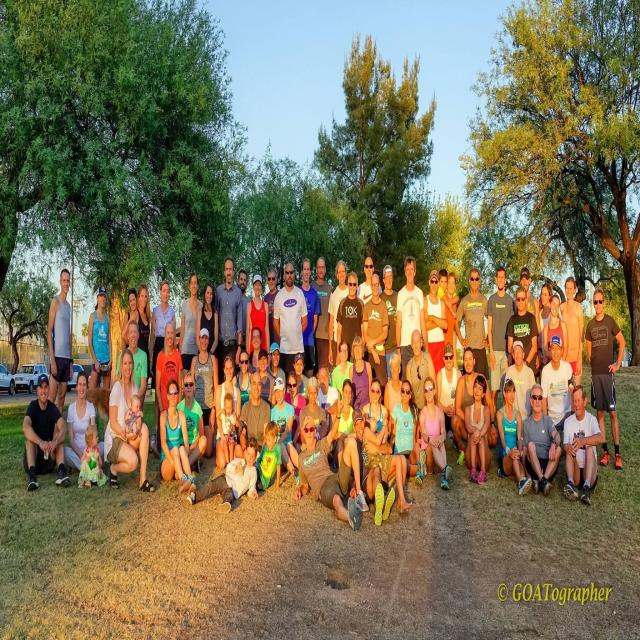body: (293, 388, 369, 531), (584, 285, 628, 470), (103, 345, 156, 495), (21, 371, 72, 492), (560, 381, 605, 511), (185, 437, 260, 513), (452, 346, 498, 467), (351, 406, 396, 528), (149, 318, 183, 464), (363, 416, 413, 514), (272, 262, 309, 393), (520, 383, 562, 498), (486, 265, 516, 424), (158, 378, 197, 494), (395, 255, 430, 383), (46, 268, 75, 419), (540, 334, 575, 459), (148, 279, 176, 435), (390, 378, 429, 488), (496, 377, 532, 496), (417, 374, 453, 492), (64, 370, 104, 476), (188, 326, 219, 461), (87, 284, 113, 444), (122, 284, 154, 412), (455, 266, 489, 382), (214, 254, 243, 386), (362, 272, 389, 406), (175, 371, 208, 476), (179, 272, 204, 401), (270, 376, 299, 486), (308, 257, 334, 379), (215, 355, 242, 471), (464, 375, 492, 486), (558, 274, 585, 388), (506, 287, 538, 383), (513, 266, 542, 371), (361, 378, 388, 488), (436, 342, 462, 455), (502, 339, 537, 422), (423, 269, 449, 379), (405, 327, 437, 416), (336, 272, 366, 366), (298, 258, 321, 378), (196, 281, 219, 401), (241, 371, 271, 460), (116, 320, 148, 398), (245, 274, 271, 368), (328, 259, 350, 369), (332, 377, 358, 469), (378, 264, 398, 382), (233, 268, 253, 378), (253, 420, 283, 493), (77, 422, 108, 492), (299, 376, 328, 445), (284, 371, 306, 455), (542, 294, 568, 365), (538, 282, 560, 364), (349, 336, 373, 410), (216, 393, 240, 465), (263, 268, 282, 350), (316, 365, 339, 431), (330, 339, 354, 400), (232, 349, 254, 410), (286, 352, 310, 407), (441, 271, 458, 348), (257, 349, 277, 411), (384, 353, 403, 418), (357, 256, 382, 304), (436, 268, 459, 320), (122, 287, 139, 354), (124, 391, 144, 444), (267, 342, 286, 388), (248, 327, 264, 374)
